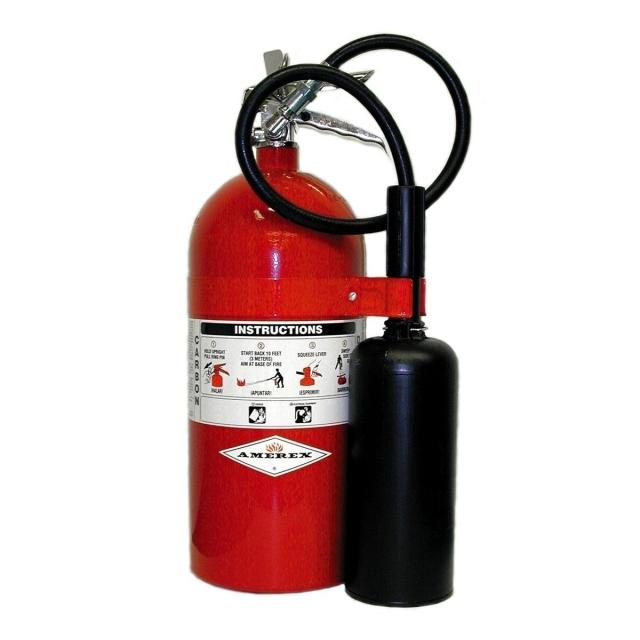fire_extinguisher: (176, 26, 482, 621)
